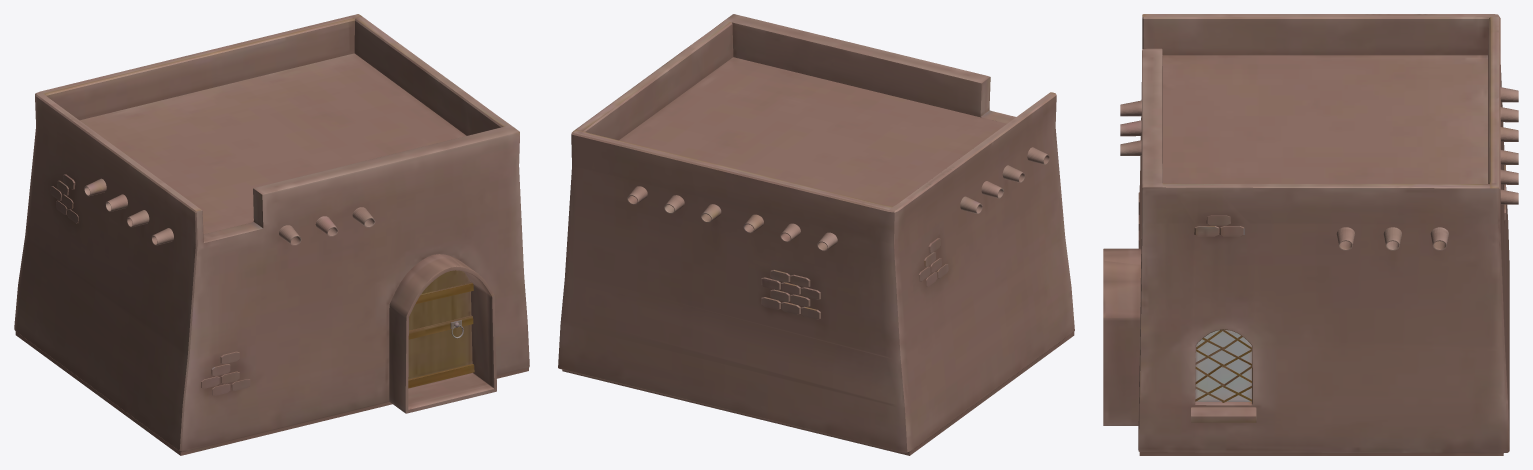
The model's file is h_arabic4.glb.
3 views of the same model, side by side, from view 1: azimuth 30°, elevation 25°; view 2: azimuth 150°, elevation 25°; view 3: azimuth 270°, elevation 25° (orthographic). The views are drawn at different scales.
Visible parts, largest first — view 1: DecorativeHouse1_Material.001_0, rEJILLA.002__0; view 2: DecorativeHouse1_Material.001_0, rEJILLA.002__0; view 3: DecorativeHouse1_Material.001_0, rEJILLA.002__0.
Boxes of the visible parts, <box> form: DecorativeHouse1_Material.001_0: <box>14,14,529,455</box>; rEJILLA.002__0: <box>50,174,474,395</box>; DecorativeHouse1_Material.001_0: <box>558,14,1074,455</box>; rEJILLA.002__0: <box>761,238,948,319</box>; DecorativeHouse1_Material.001_0: <box>1103,14,1518,455</box>; rEJILLA.002__0: <box>1138,165,1505,402</box>.
Size of the model in its own units: 7.08 by 4.54 by 6.45.
2 materials, 2 textured.
